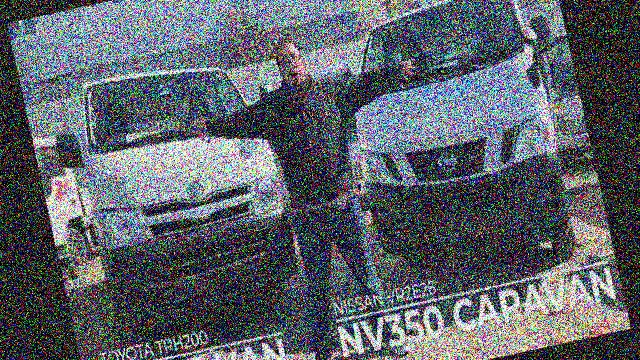van: (54, 45, 312, 342), (330, 0, 589, 289)
